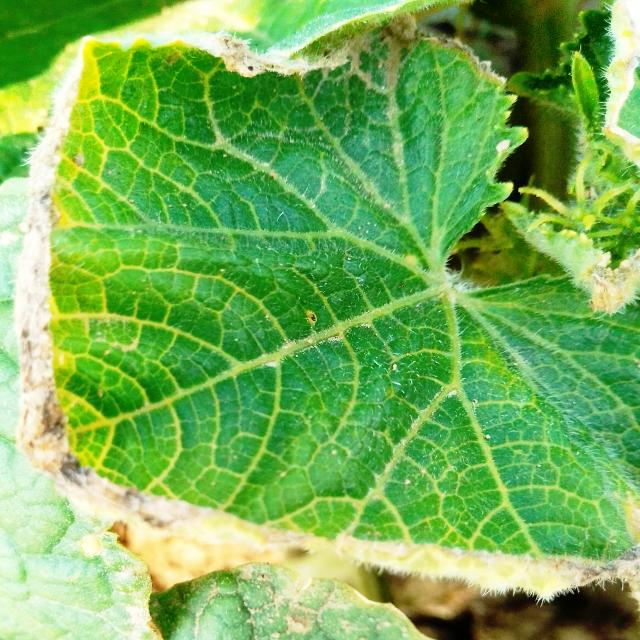Gummy-Stem-Blight: (11, 22, 638, 610)
